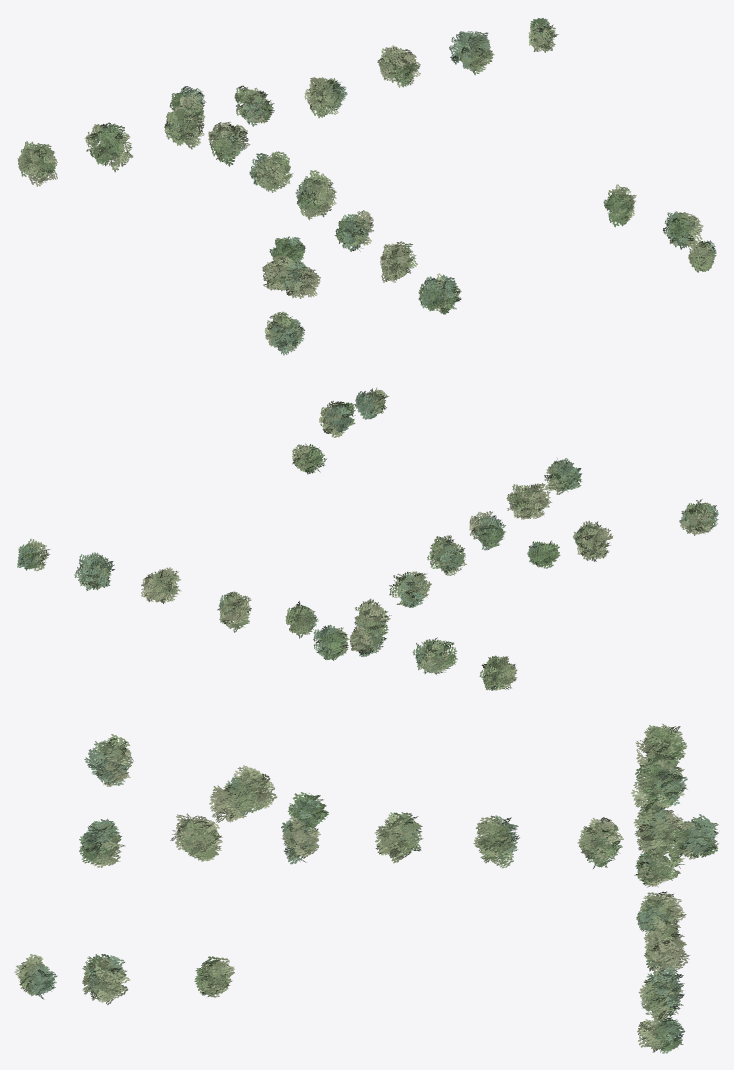
The model's file is campus-tree-2_-4-middle.glb.
3 renders of one model, top to bottom at view 1: azimuth 30°, elevation 25°; view 2: azimuth 150°, elevation 25°; view 3: azimuth 270°, elevation 25°, orthographic. The views are drawn at different scales.
Parts seen in each view (by area): view 1: Campus leaf canopy; view 2: Campus leaf canopy; view 3: Campus leaf canopy.
Part boxes in pixels (bbox=[...]): Campus leaf canopy: bbox=[17, 18, 716, 355]; Campus leaf canopy: bbox=[17, 388, 718, 690]; Campus leaf canopy: bbox=[14, 723, 718, 1053].
Size of the model in its own units: 82.51 by 7.91 by 79.09.
Materials: 1 (1 with a texture image).
